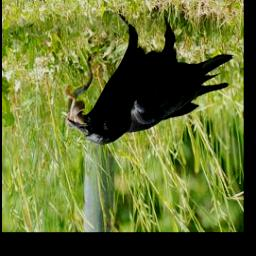Crow: (65, 13, 230, 146)
